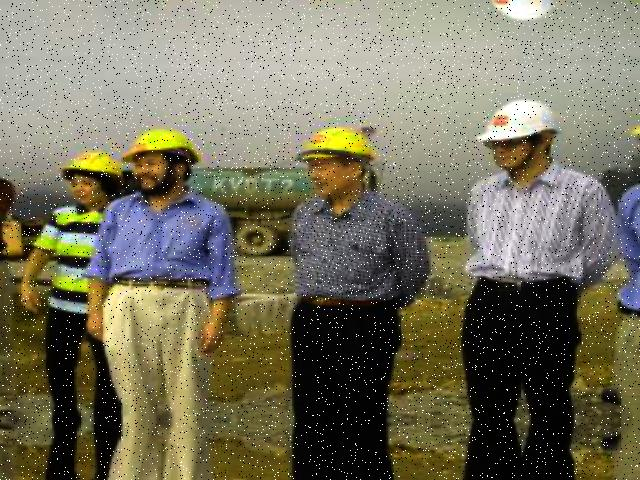Helmet: (466, 96, 565, 150), (118, 124, 208, 171), (287, 121, 377, 168), (55, 149, 125, 191)
